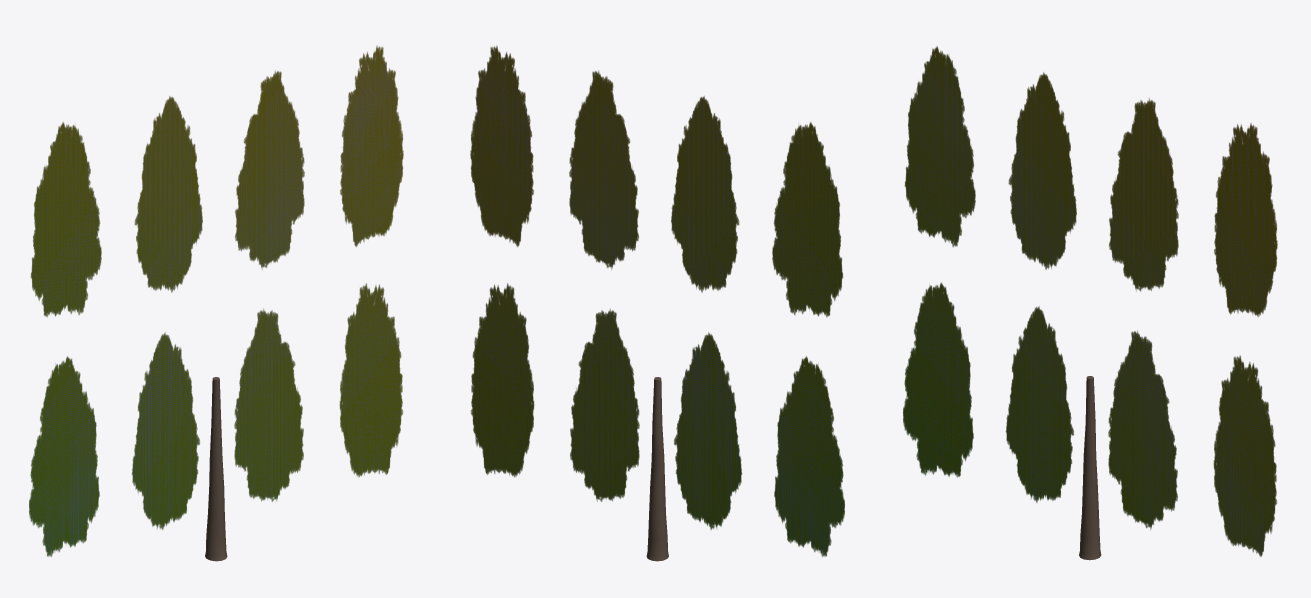
Rendered from tree_medium_upright_asymmetric_canopy_lod2_impostor.glb.
3 renders of one model, left to right at view 1: azimuth 30°, elevation 25°; view 2: azimuth 150°, elevation 25°; view 3: azimuth 330°, elevation 25°, orthographic.
Visible parts, largest first — view 1: TreeHLOD2_Impostor, Camphor_Trunk_Stylized; view 2: TreeHLOD2_Impostor, Camphor_Trunk_Stylized; view 3: TreeHLOD2_Impostor, Camphor_Trunk_Stylized.
Part boxes in pixels (bbox=[...]): TreeHLOD2_Impostor: bbox=[29, 45, 403, 557]; Camphor_Trunk_Stylized: bbox=[205, 377, 227, 561]; TreeHLOD2_Impostor: bbox=[470, 45, 844, 557]; Camphor_Trunk_Stylized: bbox=[646, 377, 668, 561]; TreeHLOD2_Impostor: bbox=[903, 46, 1277, 556]; Camphor_Trunk_Stylized: bbox=[1079, 376, 1101, 560].
Bounding box in the file's own units: 14.89 × 17.15 × 0.7379.
2 materials, 1 textured.
